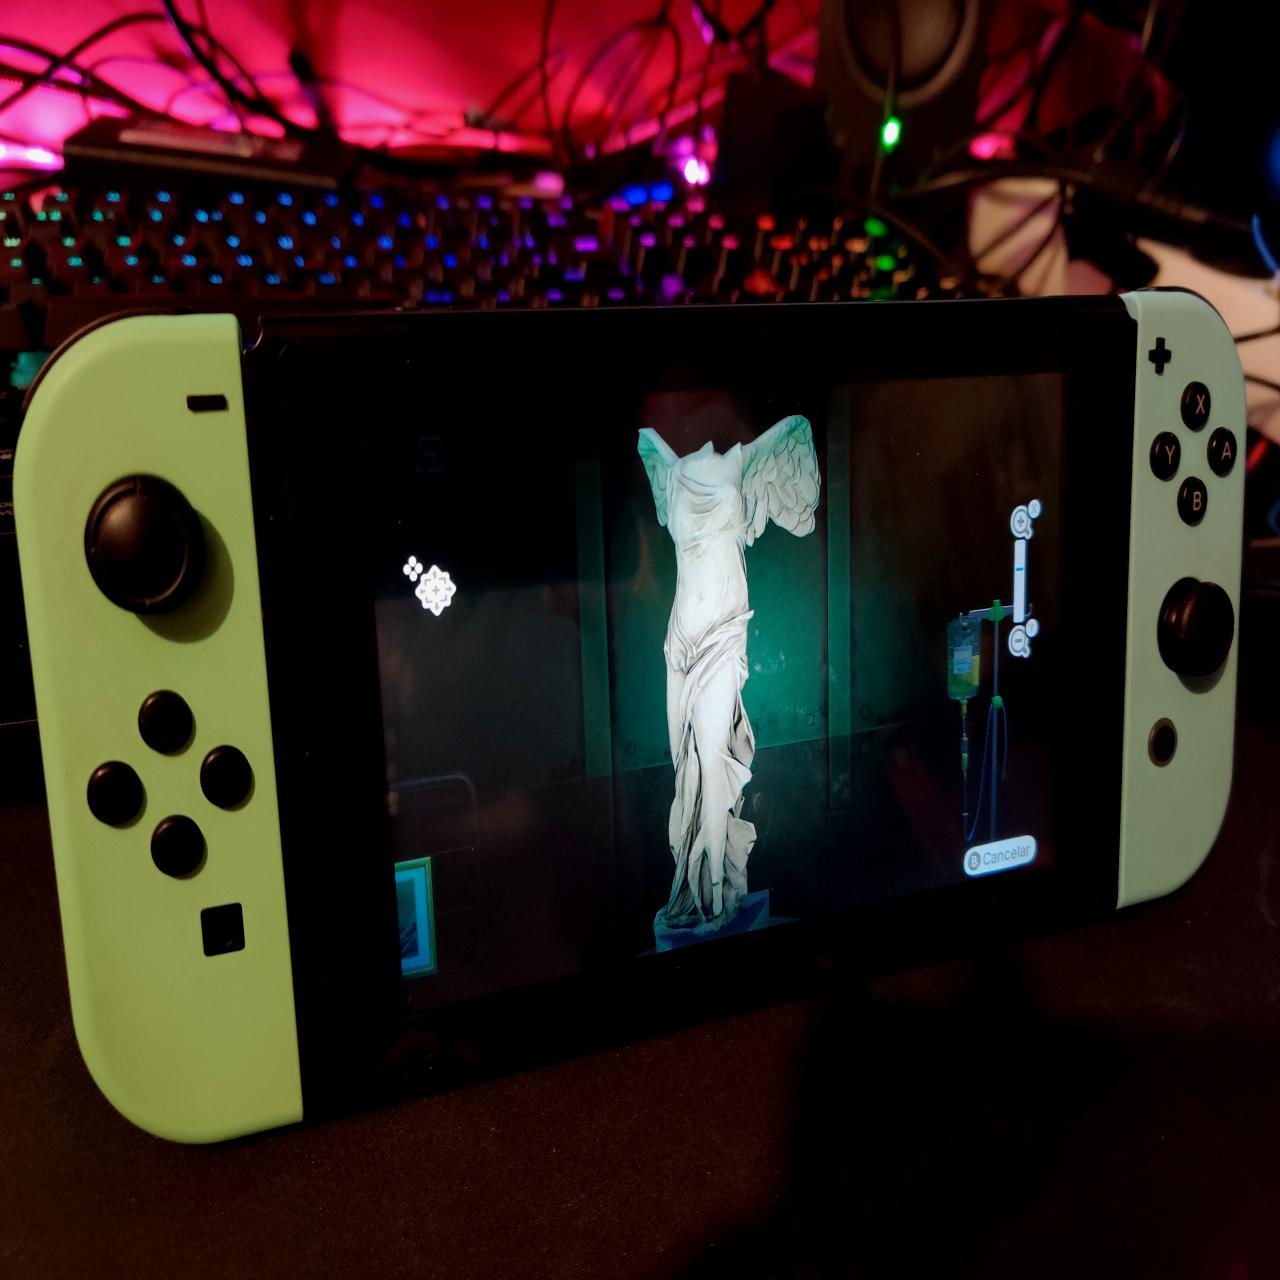SamothraceFake: (628, 408, 832, 941)
